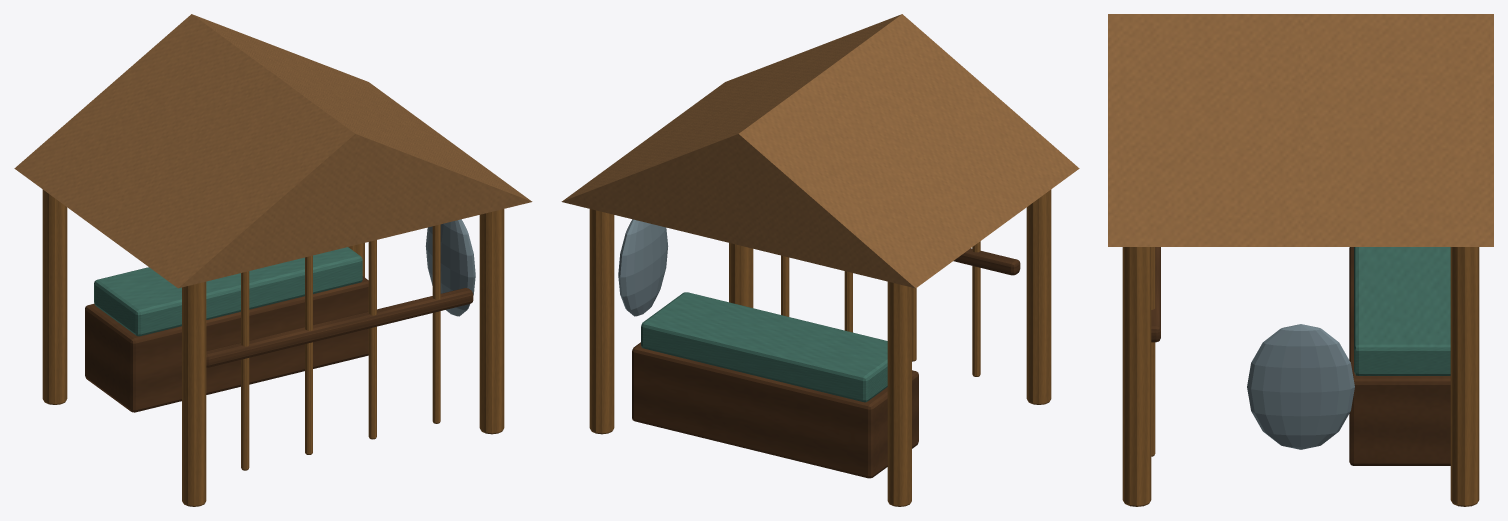
The model's file is mercenaries.glb.
The picture shows the model from 3 angles, left to right: view 1: azimuth 30°, elevation 25°; view 2: azimuth 150°, elevation 25°; view 3: azimuth 270°, elevation 25°; orthographic projection. The views are drawn at different scales.
Visible parts, largest first — view 1: mercenary_roof, bunk, bedroll, post.002, post, post.001, rack_crossbar, shield, weapon_rack, weapon_rack.002, weapon_rack.003, weapon_rack.001; view 2: mercenary_roof, bunk, bedroll, post.003, post.001, post, shield, post.002, weapon_rack, rack_crossbar; view 3: mercenary_roof, bedroll, shield, bunk, post.002, post.003, weapon_rack.003, rack_crossbar.
Boxes of the visible parts, x1,y1,x2,y2 form: mercenary_roof: (14,14,532,288); bunk: (85,276,368,412); bedroll: (94,247,362,336); post.002: (479,209,504,434); post: (182,281,206,506); post.001: (42,189,67,404); rack_crossbar: (206,288,473,367); shield: (425,219,475,316); weapon_rack: (241,271,249,470); weapon_rack.002: (368,240,376,439); weapon_rack.003: (432,224,440,423); weapon_rack.001: (305,255,312,454); mercenary_roof: (561,14,1079,288); bunk: (632,342,918,478); bedroll: (641,292,887,402); post.003: (589,209,614,434); post.001: (887,281,911,506); post: (1026,189,1051,404); shield: (618,219,668,316); post.002: (729,243,753,307); weapon_rack: (972,241,980,376); rack_crossbar: (953,248,1020,275); mercenary_roof: (1108,14,1493,246); bedroll: (1354,247,1450,375); shield: (1247,324,1354,449); bunk: (1349,247,1450,465); post.002: (1122,247,1151,506); post.003: (1450,247,1479,506); weapon_rack.003: (1151,247,1155,456); rack_crossbar: (1151,247,1160,342).
Bounding box in the file's own units: 2.57 × 2.3 × 2.
Materials: 6 (4 with a texture image).
